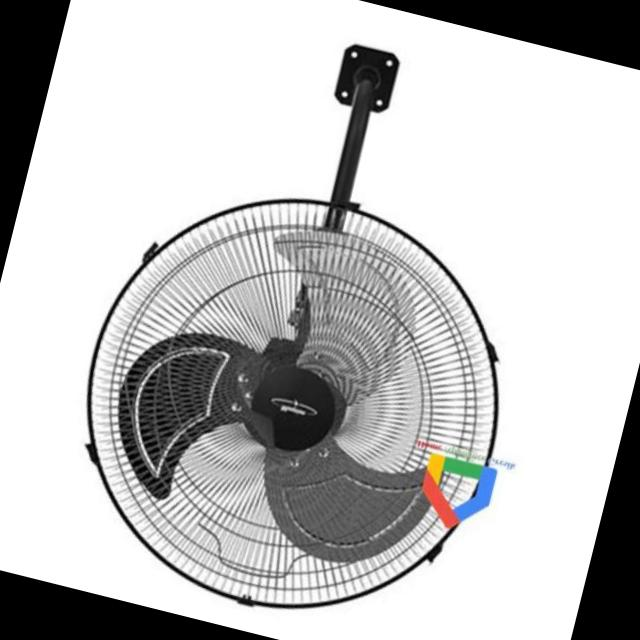fan: (35, 0, 614, 640)
